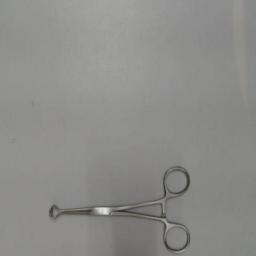Babcock Tissue Forceps: (46, 162, 194, 254)
